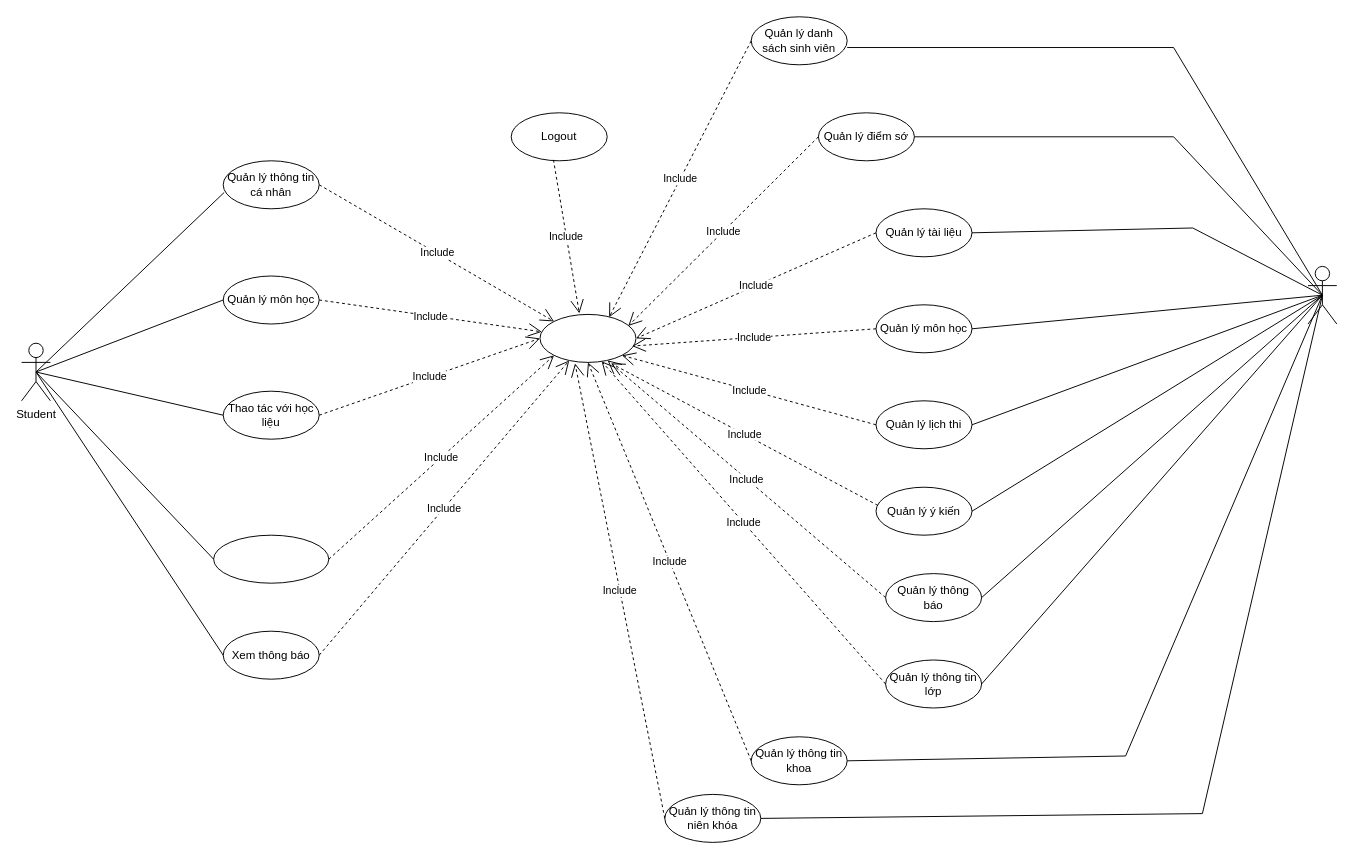
Some shapes in this 1359 by 859 pixel diagram are drawn without their labels. The centre of each missing label's shape, as x and y in pixels:
"Login" belongs at pixel 587 337.
"Teacher" belongs at pixel 1322 294.
"Tương tác tác với nhà trường" belongs at pixel 271 558.
